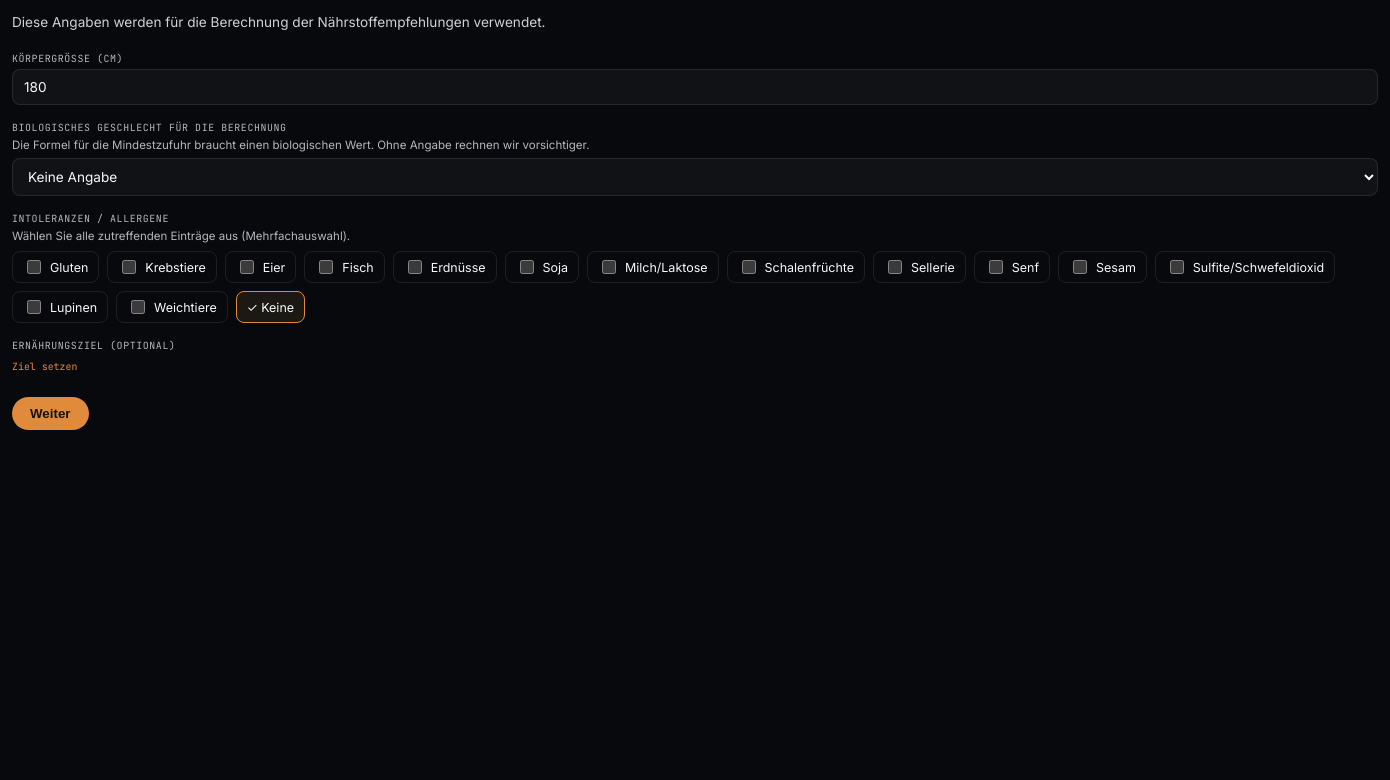
NutritionStep › zeigt Fehler bei fehlgeschlagenem Ziel-Speichern
The width and height of the screenshot is (1390, 780).
Click the button "Ziel setzen" at (45, 367), box [12,356,77,377]
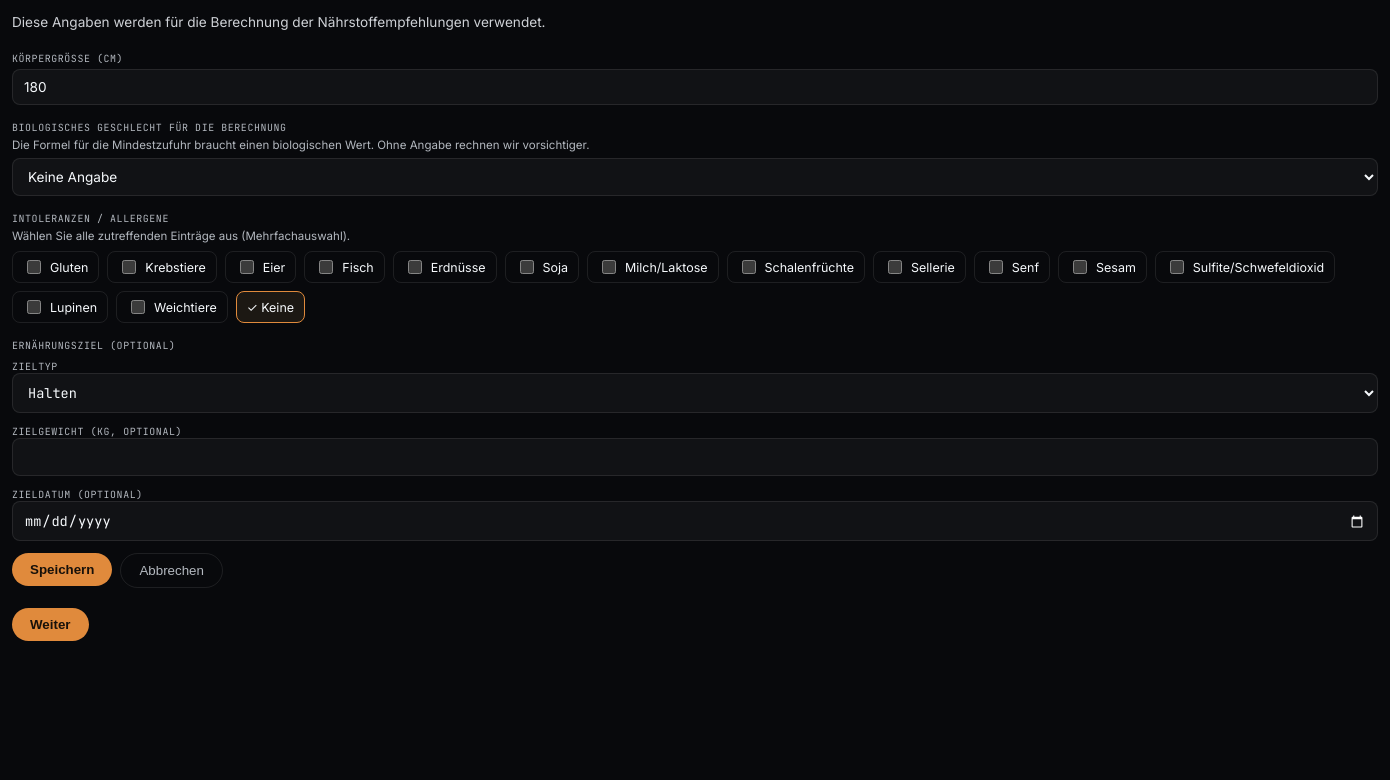
Click the button "Speichern" at (62, 570), box [12,553,112,586]
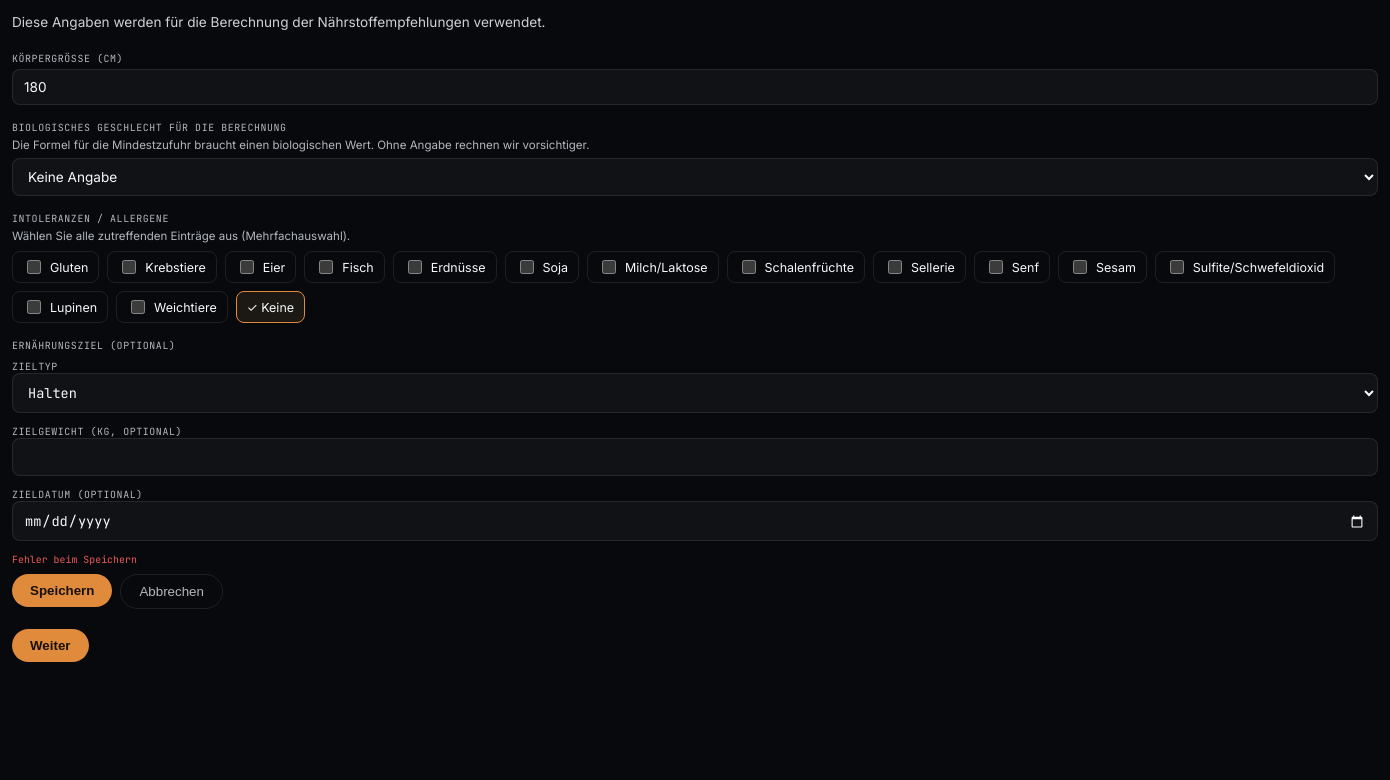
Expected: the text "Fehler beim Speichern" is shown, [12,553,137,566]
